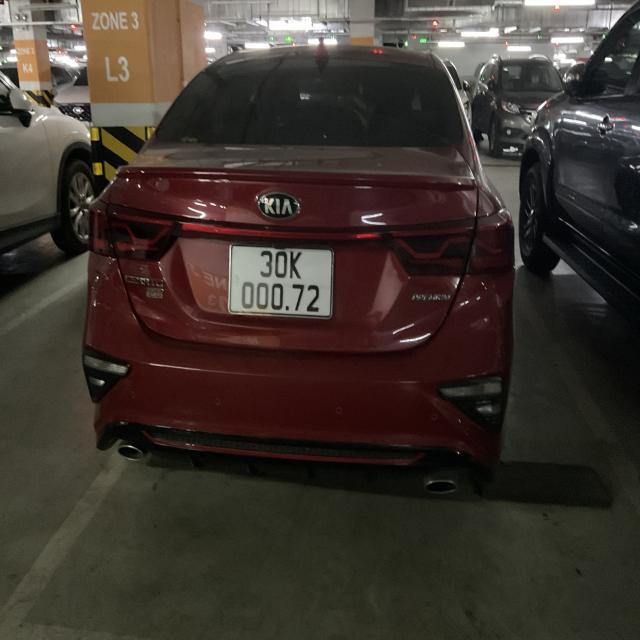license: (226, 243, 334, 319)
